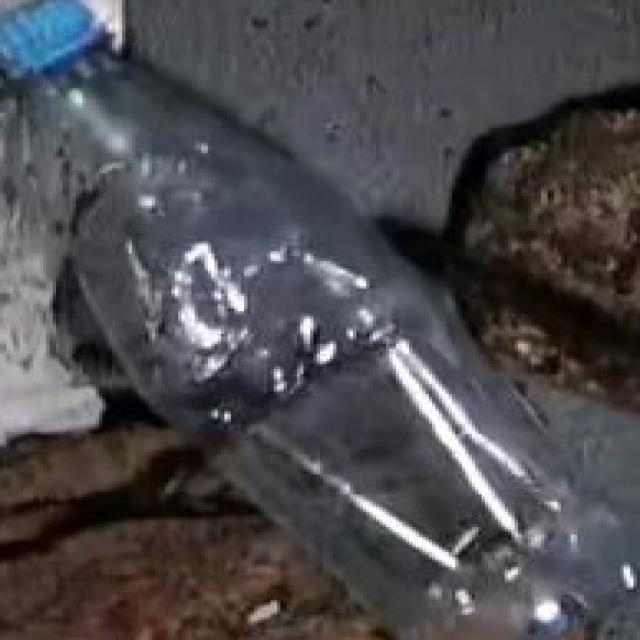plasticbottle: (0, 0, 627, 618)
